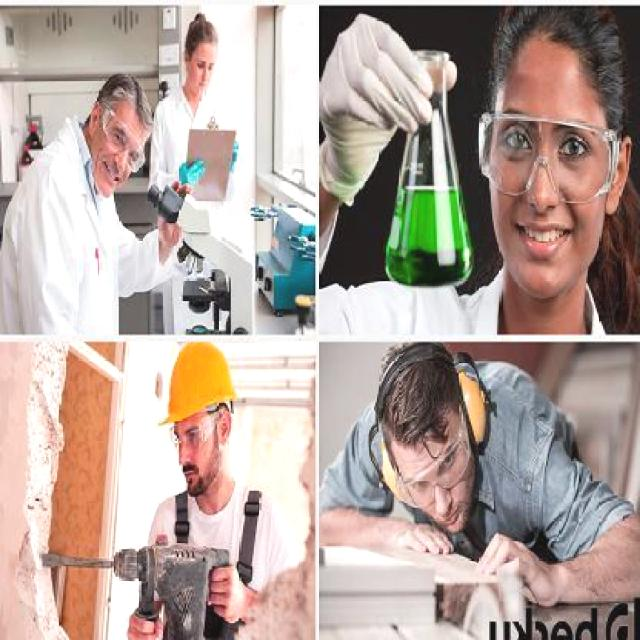face_nomask: (498, 126, 593, 265), (406, 444, 471, 528), (97, 121, 143, 190), (172, 417, 215, 485), (190, 55, 222, 96)
glasses: (478, 105, 619, 209), (393, 400, 470, 512), (98, 99, 147, 179), (166, 398, 228, 453)
hand_glove: (312, 12, 457, 198), (179, 151, 210, 186)
hand_noglove: (472, 536, 554, 604), (367, 506, 461, 559), (206, 559, 249, 621)
head_helmet: (161, 343, 242, 425)
head_nohelmet: (487, 9, 627, 106), (364, 345, 464, 430), (107, 74, 165, 131), (180, 17, 229, 58)
person: (318, 356, 640, 592), (122, 354, 293, 640), (0, 72, 180, 334)
